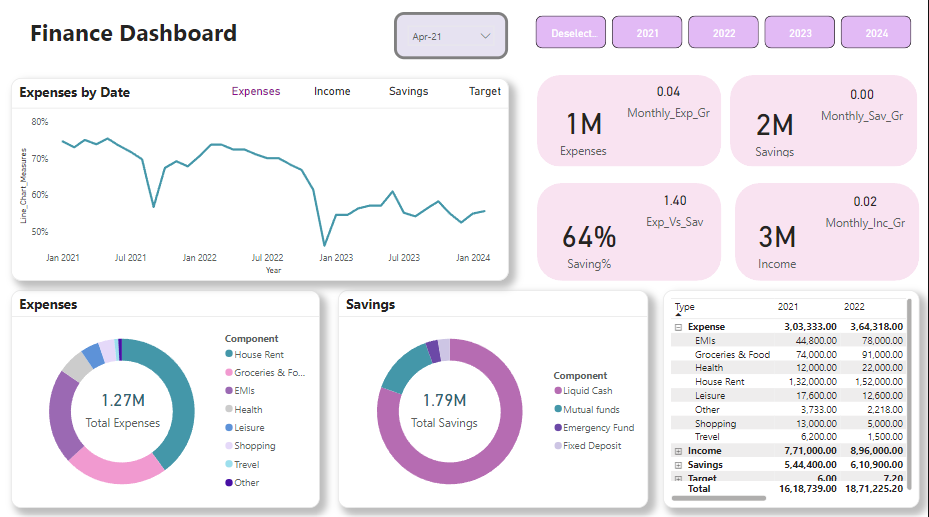

What the dashboard file says about the page in this screenshot:
{"tool":"powerbi","page":{"name":"Page 1","canvas":[1280,720],"ordinal":0},"visuals":[{"type":"donutChart","title":"Expenses ","fields":{"Category":["FinData.Component"],"Y":["FinData.Expenses"]},"box":[17,403.9,425.2,300.5],"z":0},{"type":"shape","box":[739.8,256.5,253.7,134.6],"z":1000},{"type":"shape","box":[739.8,107.7,253.7,126.1],"z":2000},{"type":"shape","box":[1013.4,256.5,253.7,134.6],"z":3000},{"type":"shape","box":[1006.3,107.7,258,126.1],"z":4000},{"type":"card","fields":{"Values":["FinData.Savings"]},"box":[1013.4,137.5,109.1,87.9],"z":5000},{"type":"card","fields":{"Values":["FinData.Expenses"]},"box":[1113.1,453.6,112.3,93.6],"z":6000},{"type":"advancedSlicerVisual","fields":{"Values":["FinData.Year"]},"box":[734.2,21.3,530.1,55.3],"z":7000},{"type":"donutChart","title":"Savings ","fields":{"Category":["FinData.Component"],"Y":["FinData.Savings"]},"box":[466.3,403.9,426.6,300.5],"z":8000},{"type":"card","fields":{"Values":["FinData.Income"]},"box":[1020.5,292,102,87.9],"z":9000},{"type":"pivotTable","fields":{"Rows":["FinData.Type","FinData.Component"],"Columns":["FinData.Year"],"Values":["FinData.Total Value"]},"box":[913.9,403.3,349.6,300],"z":10000},{"type":"advancedSlicerVisual","fields":{"Values":["Line_Selection_Table.Type"]},"box":[299.1,112,426.6,43.9],"z":11000},{"type":"card","fields":{"Values":["FinData.Saving%"]},"box":[765.4,282,93.5,106.3],"z":12000},{"type":"lineChart","fields":{"Category":["FinData.Date.Variation.Date Hierarchy.Year","FinData.Date.Variation.Date Hierarchy.Quarter","FinData.Date.Variation.Date Hierarchy.Month","FinData.Date.Variation.Date Hierarchy.Day"],"Y":["FinData.Line_Chart_Measures"]},"box":[17,112,684.6,279.2],"z":13000},{"type":"textbox","box":[36.9,21.3,429.4,65.2],"z":14000},{"type":"card","fields":{"Values":["FinData.Expenses"]},"box":[748.3,134.6,110.6,90.7],"z":15000},{"type":"slicer","fields":{"Values":["Selected_Date.Month-Year"]},"box":[544.3,21.3,157.3,65.2],"z":16000},{"type":"card","fields":{"Values":["FinData.Total Expenses"]},"box":[112,513.1,117.6,100.6],"z":17000},{"type":"card","fields":{"Values":["FinData.Total Savings"]},"box":[554.2,523,116.2,80.8],"z":18000},{"type":"card","fields":{"Values":["FinData.Expenses_Monthly_Gr"]},"box":[858.9,107.7,124.7,66.6],"z":19000},{"type":"card","fields":{"Values":["FinData.Savings_Monthly_Gr"]},"box":[1122.5,107.7,129,75.1],"z":20000},{"type":"card","fields":{"Values":["FinData.Ex_Vs_Sav"]},"box":[877.3,259.4,106.3,65.2],"z":21000},{"type":"card","fields":{"Values":["FinData.Income_Monthly_Gr"]},"box":[1131.4,256,121.1,71.6],"z":22000}]}

Visuals, with their boxes in screenshot pixels (x1, y1, x2, y2), scaled from the page's 1280x720 canvas onto the 929x517 screenshot:
"Expenses " donutChart: x1=12, y1=290, x2=321, y2=506
shape: x1=537, y1=184, x2=721, y2=281
shape: x1=537, y1=77, x2=721, y2=168
shape: x1=736, y1=184, x2=920, y2=281
shape: x1=730, y1=77, x2=918, y2=168
card - FinData.Savings: x1=736, y1=99, x2=815, y2=162
card - FinData.Expenses: x1=808, y1=326, x2=889, y2=393
advancedSlicerVisual - FinData.Year: x1=533, y1=15, x2=918, y2=55
"Savings " donutChart: x1=338, y1=290, x2=648, y2=506
card - FinData.Income: x1=741, y1=210, x2=815, y2=273
pivotTable - FinData.Type x FinData.Component: x1=663, y1=290, x2=917, y2=505
advancedSlicerVisual - Line_Selection_Table.Type: x1=217, y1=80, x2=527, y2=112
card - FinData.Saving%: x1=556, y1=202, x2=623, y2=279
lineChart - FinData.Date.Variation.Date Hierarchy.Year x FinData.Date.Variation.Date Hierarchy.Quarter: x1=12, y1=80, x2=509, y2=281
textbox: x1=27, y1=15, x2=338, y2=62
card - FinData.Expenses: x1=543, y1=97, x2=623, y2=162
slicer - Selected_Date.Month-Year: x1=395, y1=15, x2=509, y2=62
card - FinData.Total Expenses: x1=81, y1=368, x2=167, y2=441
card - FinData.Total Savings: x1=402, y1=376, x2=487, y2=434
card - FinData.Expenses_Monthly_Gr: x1=623, y1=77, x2=714, y2=125
card - FinData.Savings_Monthly_Gr: x1=815, y1=77, x2=908, y2=131
card - FinData.Ex_Vs_Sav: x1=637, y1=186, x2=714, y2=233
card - FinData.Income_Monthly_Gr: x1=821, y1=184, x2=909, y2=235
